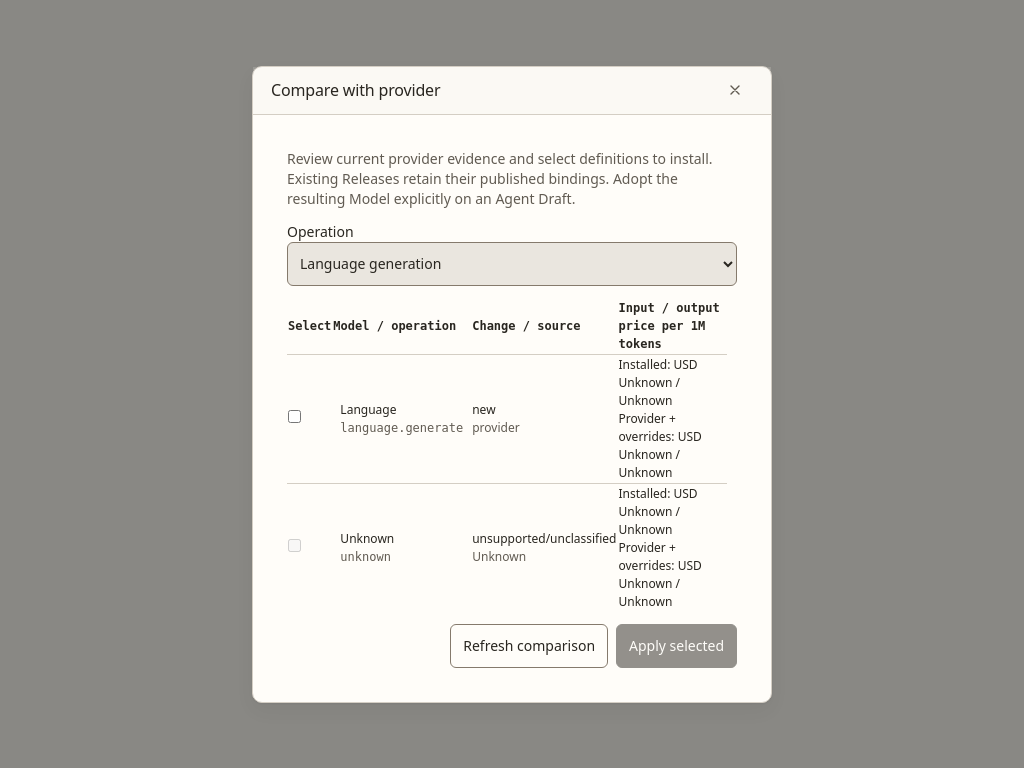
it: shows a changed-catalog conflict without claiming success
The image size is (1024, 768).
Click the checkbox named "Select Language". click: {"x": 294, "y": 416}
box: top-left (288, 410), bottom-right (301, 422)
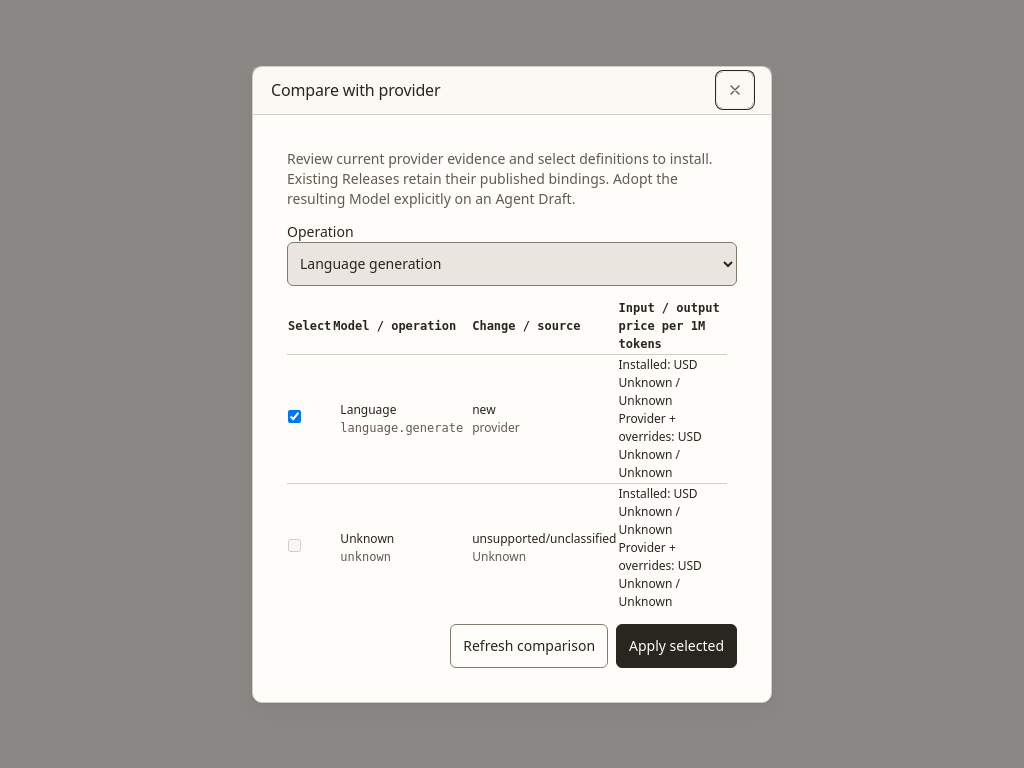
Click the button "Apply selected". click: {"x": 676, "y": 646}
box: top-left (616, 624), bottom-right (737, 668)
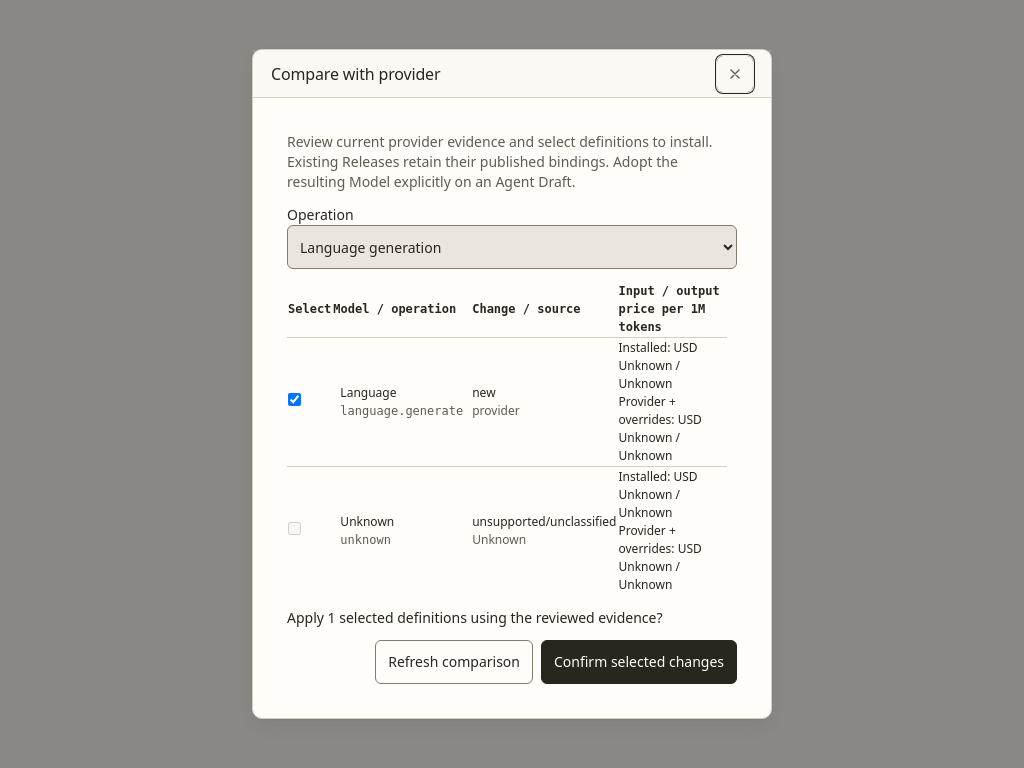
Click the button "Confirm selected changes". click: {"x": 639, "y": 662}
box: top-left (541, 640), bottom-right (737, 684)
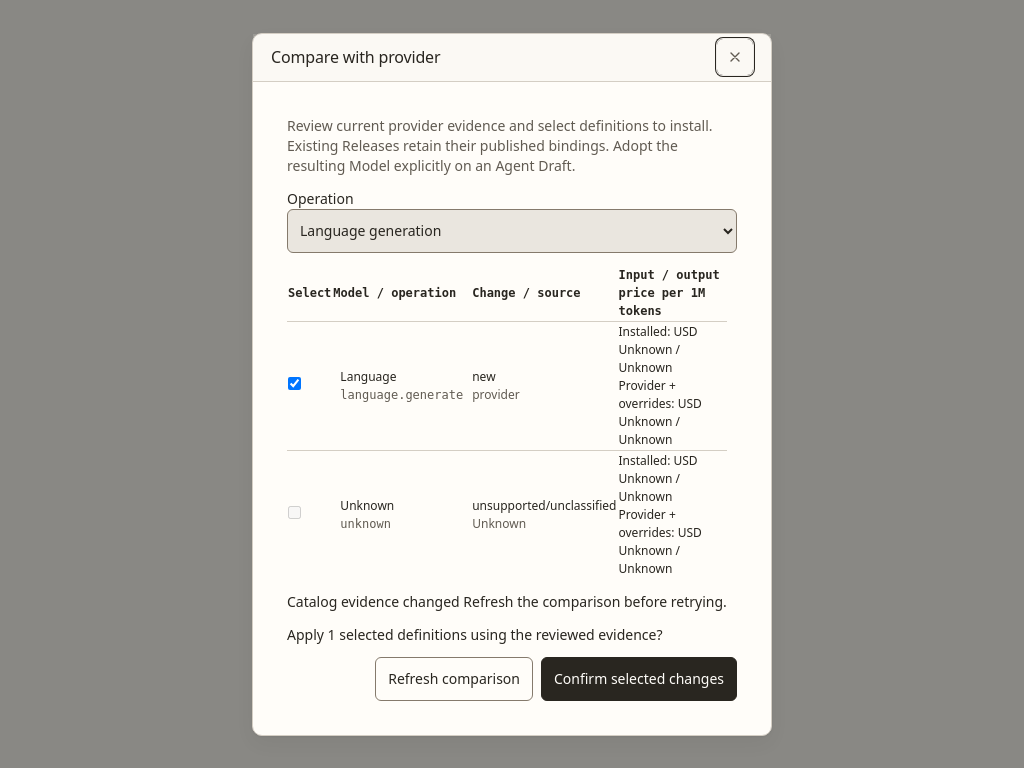
Check: the text "Catalog evidence changed" is shown, box top-left (287, 592), bottom-right (460, 610)
